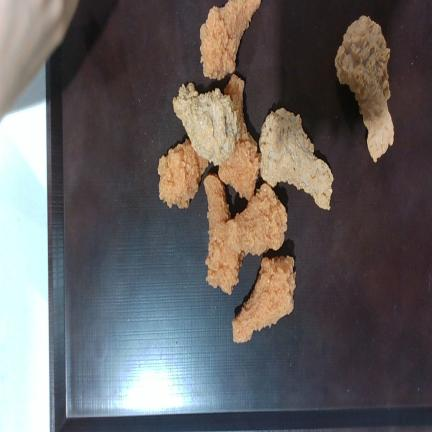chicken: (335, 16, 393, 161), (259, 108, 333, 209), (173, 83, 240, 164), (218, 74, 261, 200), (233, 256, 295, 343), (200, 0, 261, 79), (204, 174, 243, 295), (223, 183, 287, 255), (158, 139, 208, 208)
